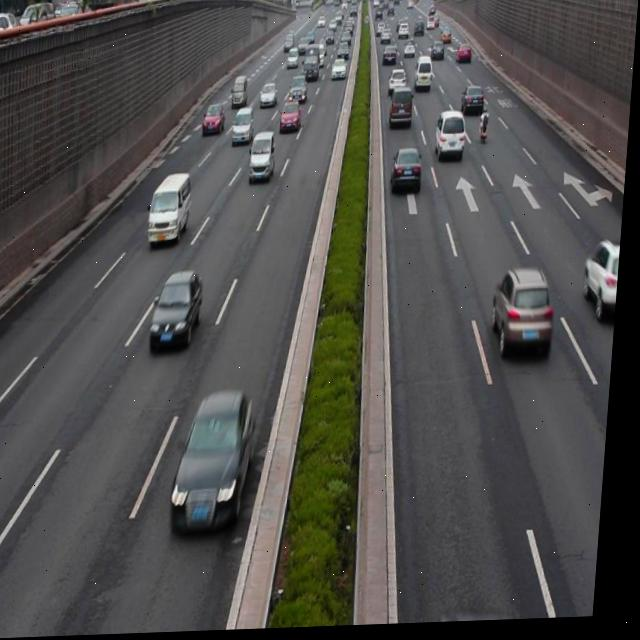car: (175, 390, 262, 539), (494, 270, 559, 359), (153, 270, 207, 351), (585, 241, 625, 323), (391, 148, 424, 194), (203, 104, 227, 139), (461, 87, 487, 119), (281, 101, 303, 135), (261, 83, 278, 110)
truck: (150, 175, 194, 246), (436, 113, 468, 164), (249, 132, 278, 183), (390, 86, 415, 131), (233, 106, 256, 147), (232, 78, 251, 108)
